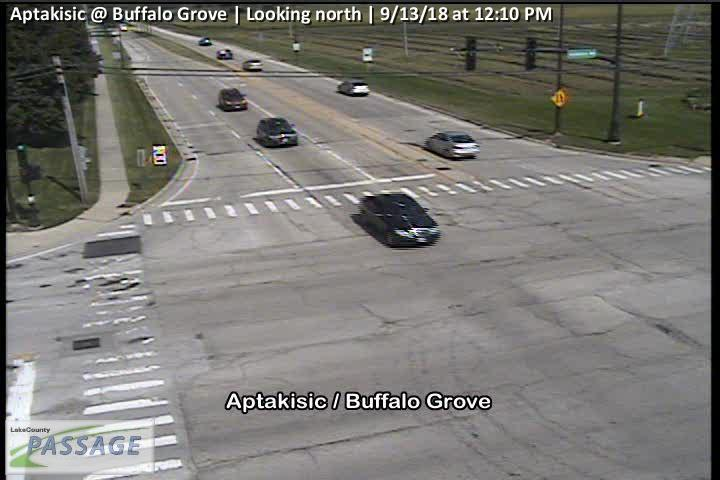SUV: (243, 59, 263, 72)
Sedan: (360, 192, 440, 248), (426, 130, 480, 158), (254, 117, 299, 147), (218, 88, 248, 111), (337, 79, 370, 96), (215, 47, 232, 60), (199, 37, 211, 46)
